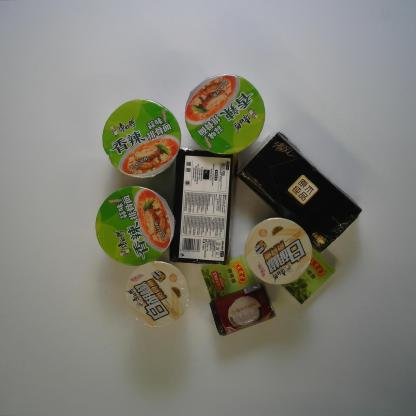Candy: (281, 248, 337, 305), (200, 252, 257, 304)
Canned Food: (207, 281, 278, 338)
Instant Noodles: (100, 95, 182, 184), (184, 72, 269, 157), (96, 183, 176, 269), (242, 217, 315, 290), (125, 260, 191, 330)
Tissue: (235, 127, 363, 253), (168, 144, 241, 268)
